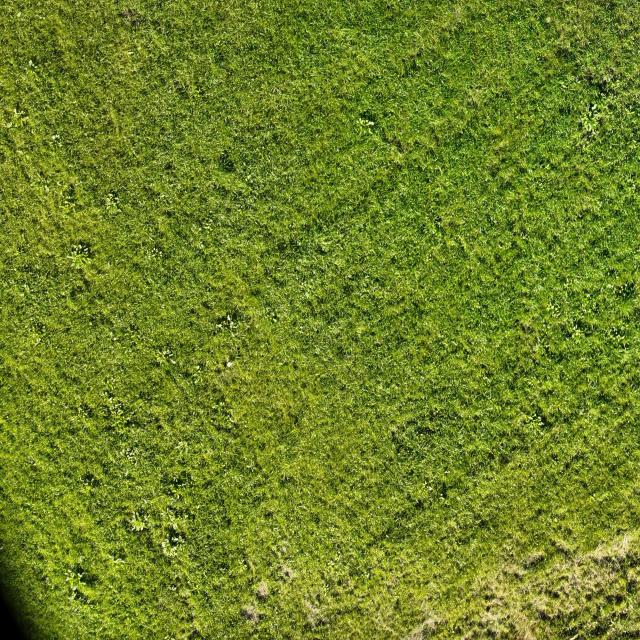rumex: (541, 292, 579, 340), (414, 594, 455, 638), (63, 564, 97, 615), (352, 270, 392, 309), (606, 295, 640, 327), (562, 317, 592, 353), (216, 311, 243, 349), (516, 408, 545, 441), (104, 393, 130, 425), (116, 451, 140, 482), (612, 278, 638, 303), (264, 94, 288, 119), (164, 481, 186, 504), (607, 325, 628, 348), (127, 511, 148, 534), (76, 569, 100, 589), (11, 107, 30, 132), (143, 245, 164, 266), (329, 252, 349, 273), (23, 59, 40, 83), (167, 472, 188, 491), (160, 534, 178, 556), (75, 401, 94, 421), (434, 478, 451, 500), (218, 150, 235, 172), (171, 81, 191, 98), (231, 558, 248, 578), (618, 532, 631, 558), (316, 236, 334, 254), (172, 440, 190, 458), (28, 318, 46, 336), (276, 239, 292, 257), (610, 590, 627, 606), (625, 577, 639, 595), (79, 275, 93, 293), (581, 120, 597, 135), (178, 586, 194, 601), (280, 566, 295, 582), (187, 626, 203, 640), (581, 128, 595, 142), (314, 615, 328, 628), (169, 522, 181, 537), (617, 607, 629, 622), (156, 351, 170, 363), (64, 568, 76, 582), (280, 473, 294, 485), (212, 401, 224, 414), (80, 482, 92, 495), (170, 533, 182, 546), (359, 118, 374, 128), (125, 450, 136, 463), (601, 73, 612, 86), (523, 629, 536, 640), (110, 194, 120, 208), (71, 244, 82, 256), (190, 223, 202, 234), (453, 6, 463, 19), (532, 343, 541, 357), (202, 222, 212, 234), (72, 258, 82, 270), (420, 599, 428, 614), (163, 348, 173, 359), (226, 356, 236, 367), (58, 200, 68, 211), (559, 81, 569, 92), (112, 556, 123, 566), (125, 7, 134, 19), (228, 418, 238, 428), (4, 119, 13, 130), (51, 133, 60, 143), (68, 202, 77, 212), (246, 104, 252, 118), (568, 633, 580, 640), (66, 594, 74, 604), (68, 181, 76, 191), (193, 367, 201, 376), (229, 322, 237, 331), (64, 254, 76, 260), (305, 290, 312, 300), (108, 332, 116, 340), (172, 476, 180, 484), (17, 290, 25, 298), (14, 107, 21, 116), (272, 312, 278, 322), (72, 584, 78, 594), (226, 314, 232, 324), (125, 50, 135, 56), (107, 394, 114, 402), (173, 80, 180, 88), (427, 485, 434, 493), (216, 322, 223, 330), (545, 16, 552, 24), (44, 184, 50, 193), (36, 337, 42, 346), (78, 570, 84, 579), (170, 358, 177, 365), (45, 575, 50, 584), (163, 634, 170, 640), (28, 59, 33, 67), (16, 12, 22, 18), (107, 262, 111, 270), (153, 159, 158, 164)
